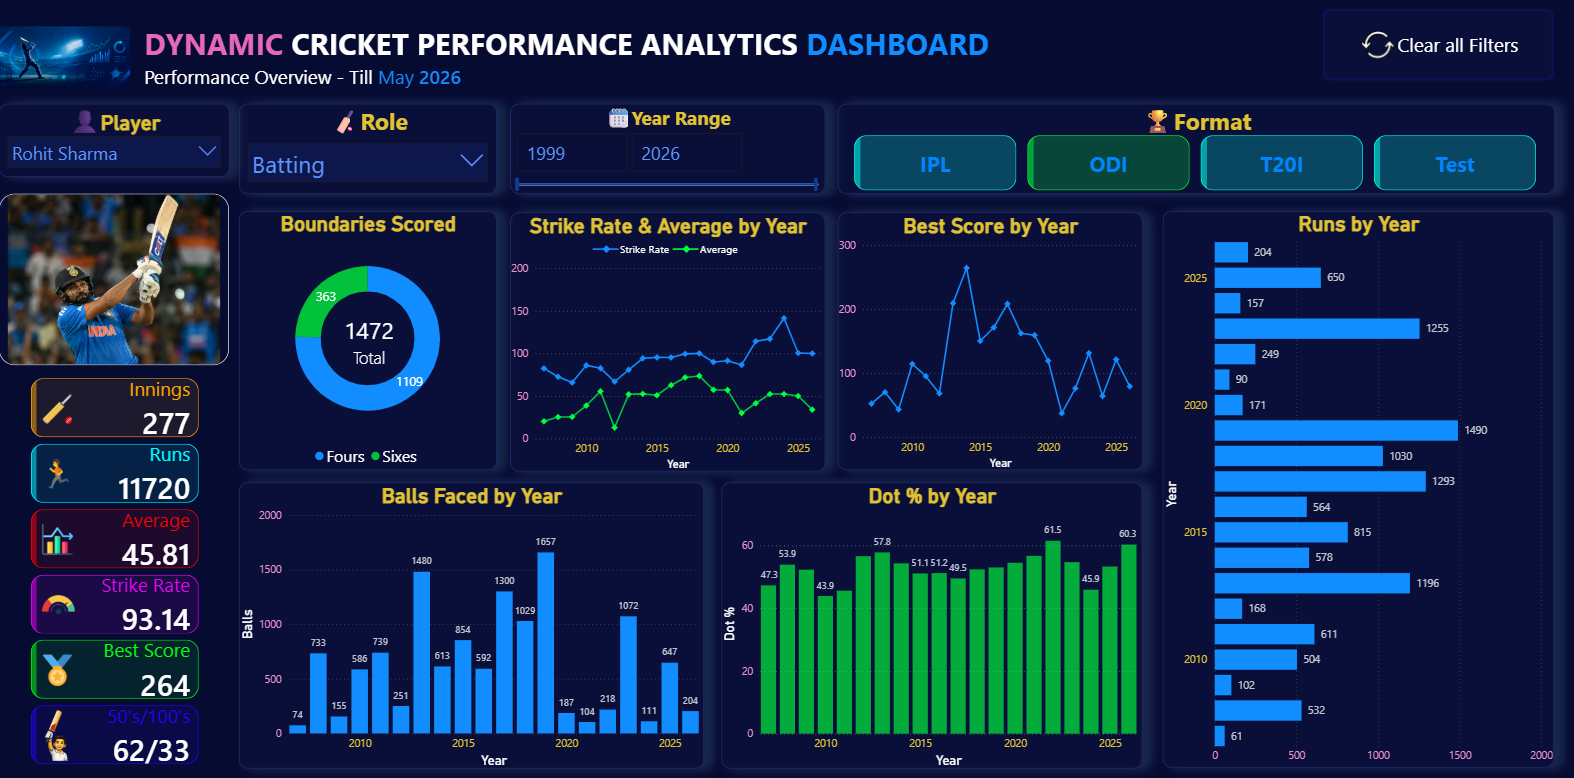

The page's visual inventory and layout, read from the dashboard file:
{"tool":"powerbi","page":{"name":"Page 1","canvas":[2000,1000],"ordinal":0},"visuals":[{"type":"slicer","title":"🗓️Year Range","fields":{"Values":["Years.Year"]},"box":[648.6,138.1,399.7,114.5],"z":0},{"type":"donutChart","fields":{"Y":["Style.Display Boundaries Fours","Style.Display Boundaries Sixes"]},"box":[305.2,274.3,327,328.9],"z":1000},{"type":"advancedSlicerVisual","title":"🏆Format","fields":{"Values":["Formats.Format"]},"box":[1064.7,138.1,910.2,114.5],"z":2000},{"type":"areaChart","title":"Strike Rate & Average by Year","fields":{"Y":["Style.Display Strike Rate","Style.Display Average"],"Category":["Years.Year"]},"box":[648.6,276.2,399.7,328.9],"z":3000},{"type":"slicer","title":"👤Player","fields":{"Values":["Players.Player"]},"box":[0,138.1,292.5,92.7],"z":4000},{"type":"image","box":[0,252.4,292.1,217.5],"z":5000},{"type":"slicer","title":"🏏Role","fields":{"Values":["Style.Style"]},"box":[305.2,138.1,327,114.5],"z":6000},{"type":"lineChart","fields":{"Y":["Style.Display Best Score/BBI Wickets"],"Category":["Years.Year"]},"box":[1064.7,276.2,387,327],"z":7000},{"type":"barChart","fields":{"Category":["Years.Year"],"Y":["Style.Display Runs/Wickets by Year"]},"box":[1477.4,274.2,496.8,706.5],"z":8000},{"type":"cardVisual","fields":{"Data":["Style.Display Innings","Style.Display Runs/Wickets","Style.Display Average","Style.Display Strike Rate/Economy","Style.Display Best Score/BBI","Style.Display 50s&100s / 5Wickets"]},"box":[23.6,470.6,247.1,528.7],"z":9000},{"type":"cardVisual","fields":{"Data":["Style.Display Total Boundaries"]},"box":[407.4,387,124.1,105.6],"z":10000},{"type":"clusteredColumnChart","fields":{"Category":["Years.Year"],"Y":["Style.Display Balls"]},"box":[304.8,619.4,590,363],"z":11000},{"type":"columnChart","title":"Dot % by Year","fields":{"Category":["Years.Year"],"Y":["Style.Display Dot %"]},"box":[917.5,619.6,534.2,363.4],"z":12000},{"type":"image","box":[0,18.3,166.7,120],"z":13000},{"type":"textbox","box":[180,18.3,1090,146.7],"z":14000},{"type":"actionButton","box":[1680.4,17.4,293.5,91.3],"z":15000}]}

Visuals, with their boxes in screenshot pixels (x1, y1, x2, y2), scaled from the page's 2000x1000 canvas onto the 1574x778 screenshot:
"🗓️Year Range" slicer: (510, 107, 825, 197)
donutChart - Style.Display Boundaries Fours x Style.Display Boundaries Sixes: (240, 213, 498, 469)
"🏆Format" advancedSlicerVisual: (838, 107, 1554, 197)
"Strike Rate & Average by Year" areaChart: (510, 215, 825, 471)
"👤Player" slicer: (0, 107, 230, 180)
image: (0, 196, 230, 366)
"🏏Role" slicer: (240, 107, 498, 197)
lineChart - Style.Display Best Score/BBI Wickets x Years.Year: (838, 215, 1142, 469)
barChart - Years.Year x Style.Display Runs/Wickets by Year: (1163, 213, 1554, 763)
cardVisual - Style.Display Innings x Style.Display Runs/Wickets: (19, 366, 213, 777)
cardVisual - Style.Display Total Boundaries: (321, 301, 418, 383)
clusteredColumnChart - Years.Year x Style.Display Balls: (240, 482, 704, 764)
"Dot % by Year" columnChart: (722, 482, 1142, 765)
image: (0, 14, 131, 108)
textbox: (142, 14, 999, 128)
actionButton: (1322, 14, 1553, 85)
